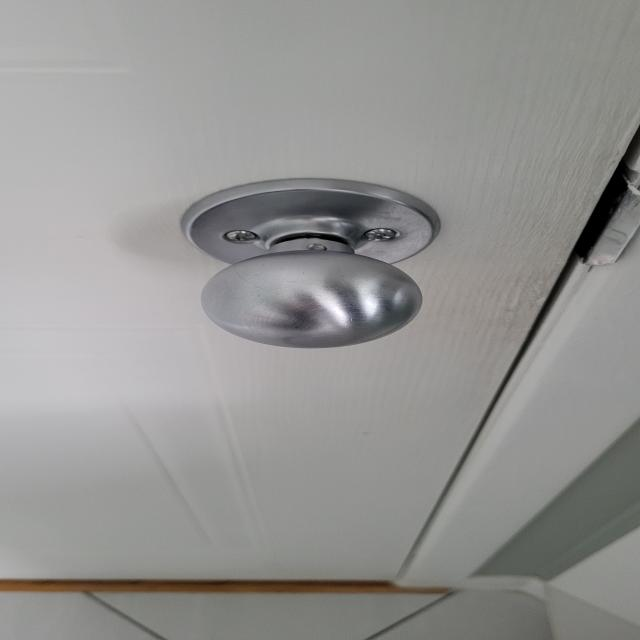door-knob: (181, 179, 441, 348)
